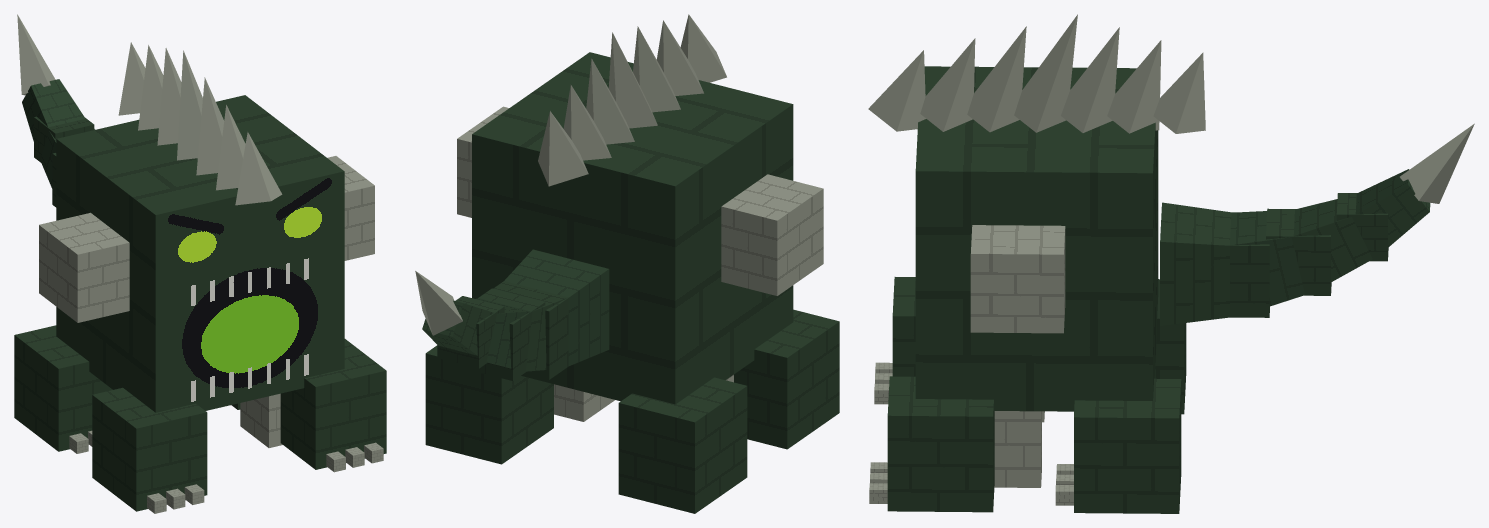
Rendered from brainmon_04.glb.
The picture shows the model from 3 angles, left to right: view 1: azimuth 30°, elevation 25°; view 2: azimuth 150°, elevation 25°; view 3: azimuth 270°, elevation 25°; orthographic projection. The views are drawn at different scales.
Parts seen in each view (by area): view 1: Brainmon_04_maw_monster; view 2: Brainmon_04_maw_monster; view 3: Brainmon_04_maw_monster.
Part boxes in pixels (x1,y1,x2,y2): Brainmon_04_maw_monster: (14, 14, 386, 513); Brainmon_04_maw_monster: (415, 14, 839, 513); Brainmon_04_maw_monster: (868, 14, 1474, 513).
Bounding box in the file's own units: 1.27 × 1.54 × 1.96.
1 material, 1 textured.
